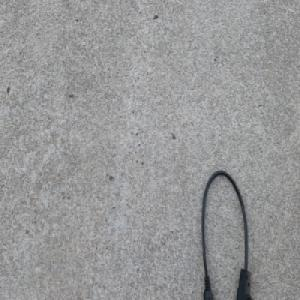Wire: (200, 168, 253, 300)
